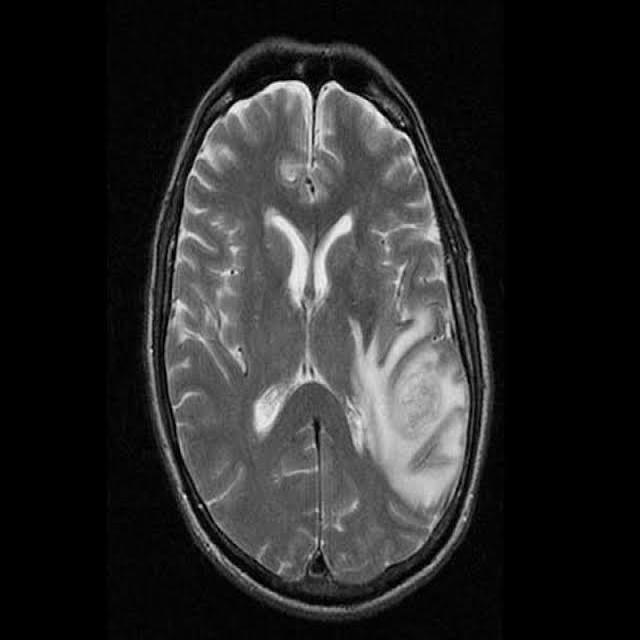tumor: (364, 328, 468, 505)
